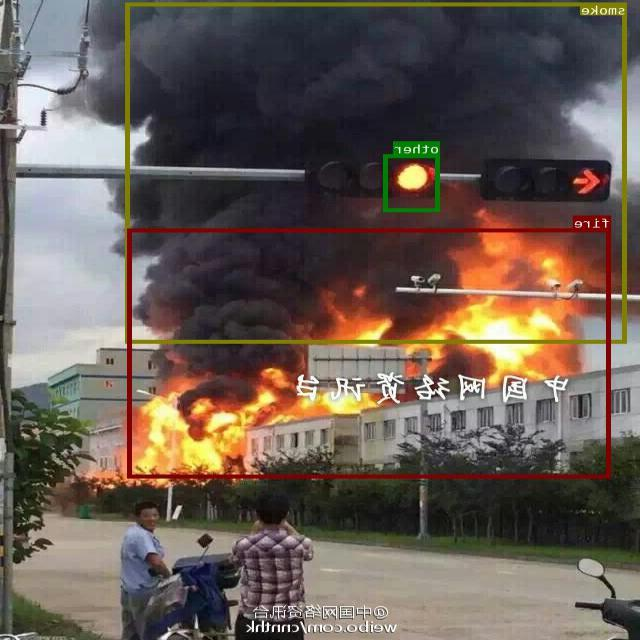fire: (128, 228, 612, 478)
other: (384, 154, 441, 211)
smoke: (127, 1, 628, 342)
